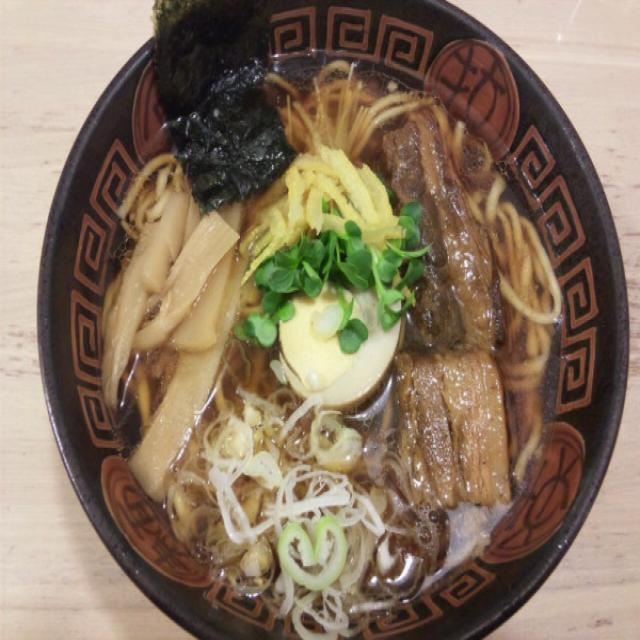面条主食: (22, 0, 638, 640)
